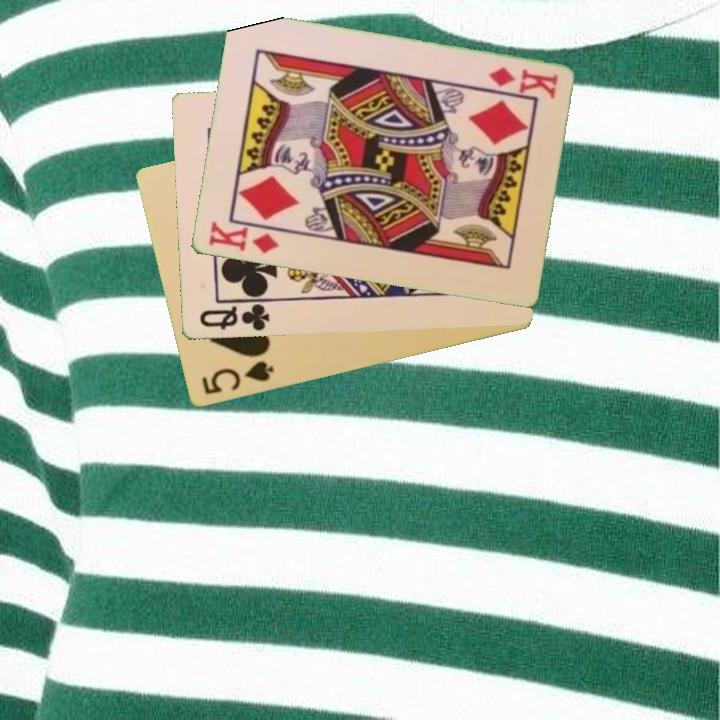5s: (197, 357, 277, 398)
Kd: (205, 218, 281, 257), (484, 63, 561, 101)
Qc: (196, 298, 274, 334)
